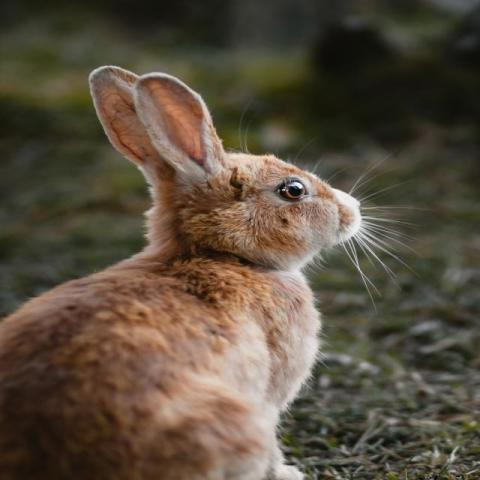small_animal: (0, 63, 418, 479)
